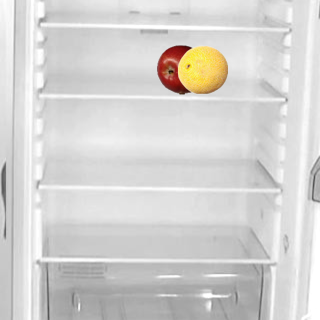Apple Braeburn: (156, 44, 206, 94)
Cantaloupe 1: (177, 44, 227, 94)
